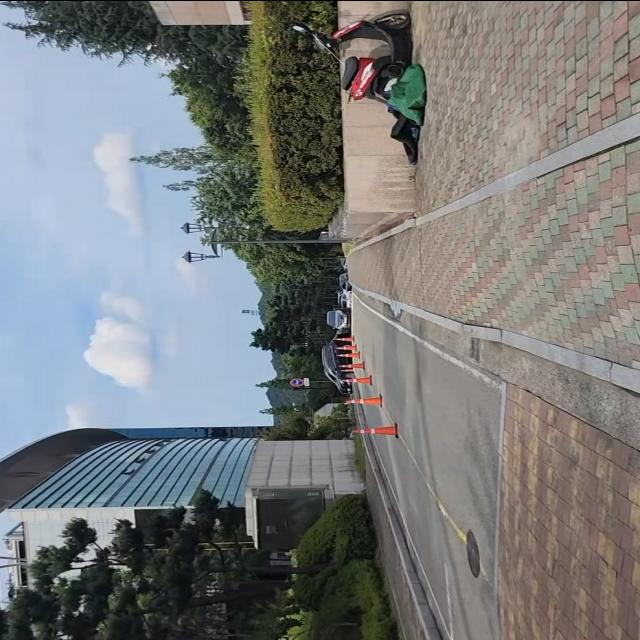obstacle: (281, 0, 437, 172)
road: (353, 294, 640, 640)
sidewalk: (348, 0, 640, 374), (362, 443, 442, 640)
